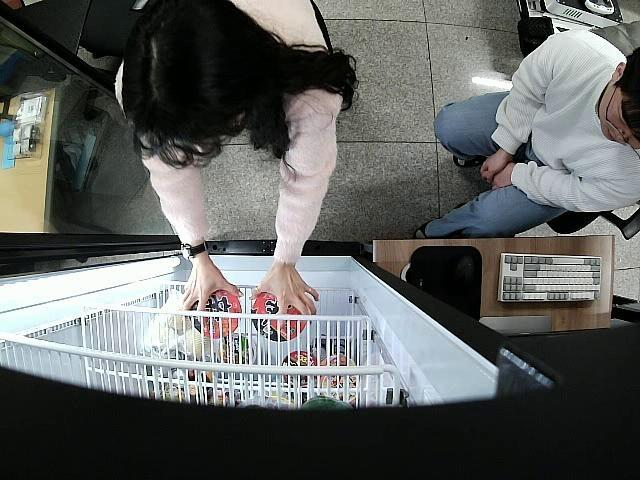01_ShinRamen_L: (253, 289, 306, 340), (190, 288, 243, 338)
